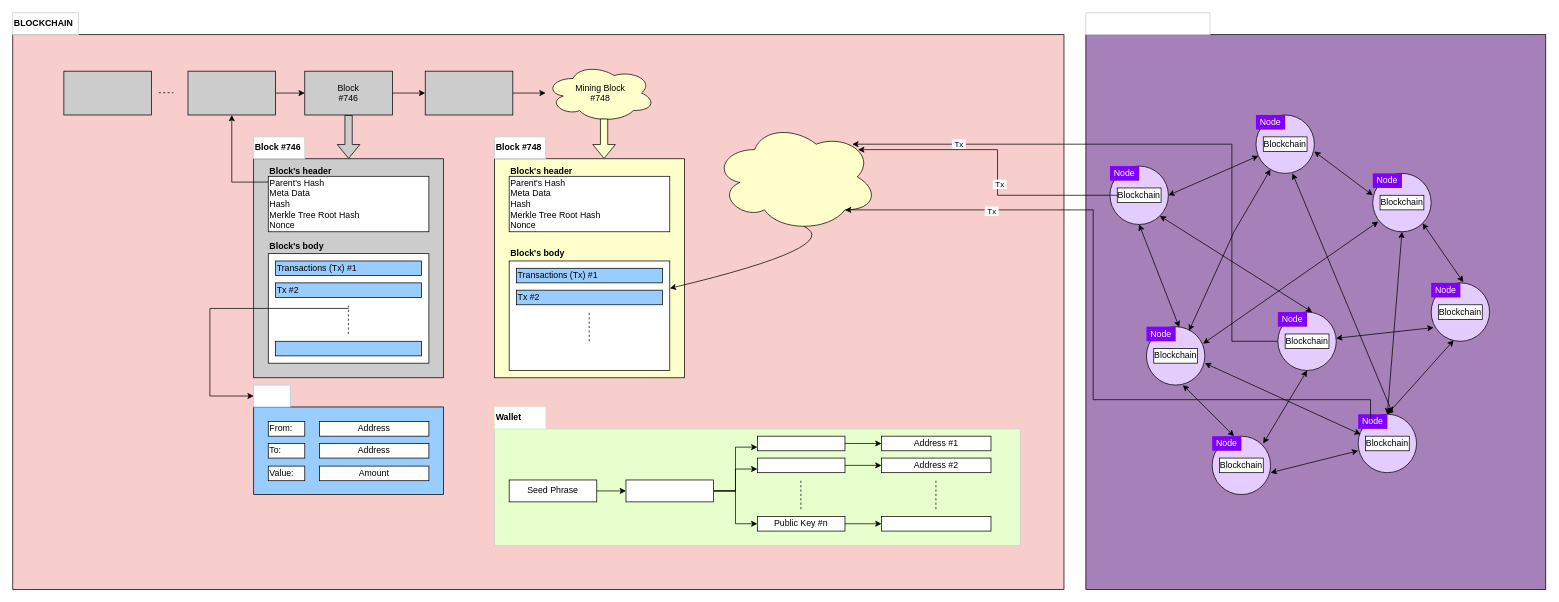
Image size: 1559x602. Some labels were removed from this diagram. Here are the shapes that lost their labels. From the top down, the centre of each, then its label:
[1147,23]: DECENTRALIZED NETWORK
[107,92]: Genesis Block #0
[231,92]: Block #745
[468,92]: Block #747
[795,177]: Pending Transaction
[348,348]: Tx #n
[271,395]: Tx #127
[801,443]: Public Key #1
[801,465]: Public Key #2
[669,490]: Private Key
[936,523]: Address #n
